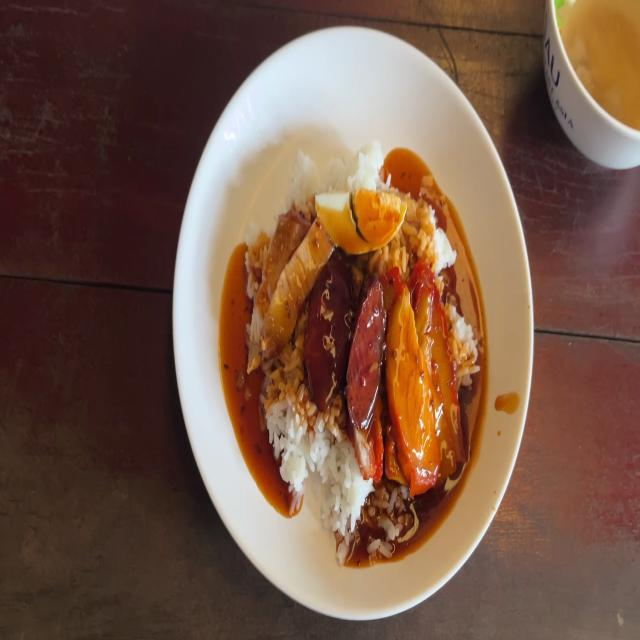red_pork_and_crispy_pork: (312, 191, 408, 254)
stir_fried_basil: (309, 260, 382, 409), (306, 261, 358, 385), (351, 294, 386, 408)
